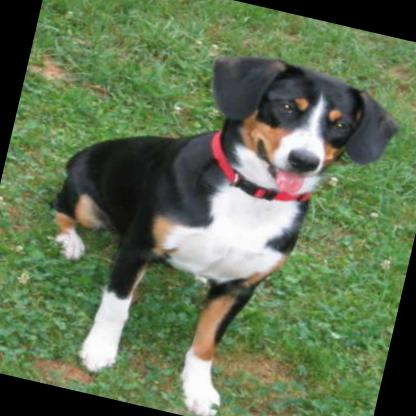EntleBucher: (8, 12, 409, 416)
